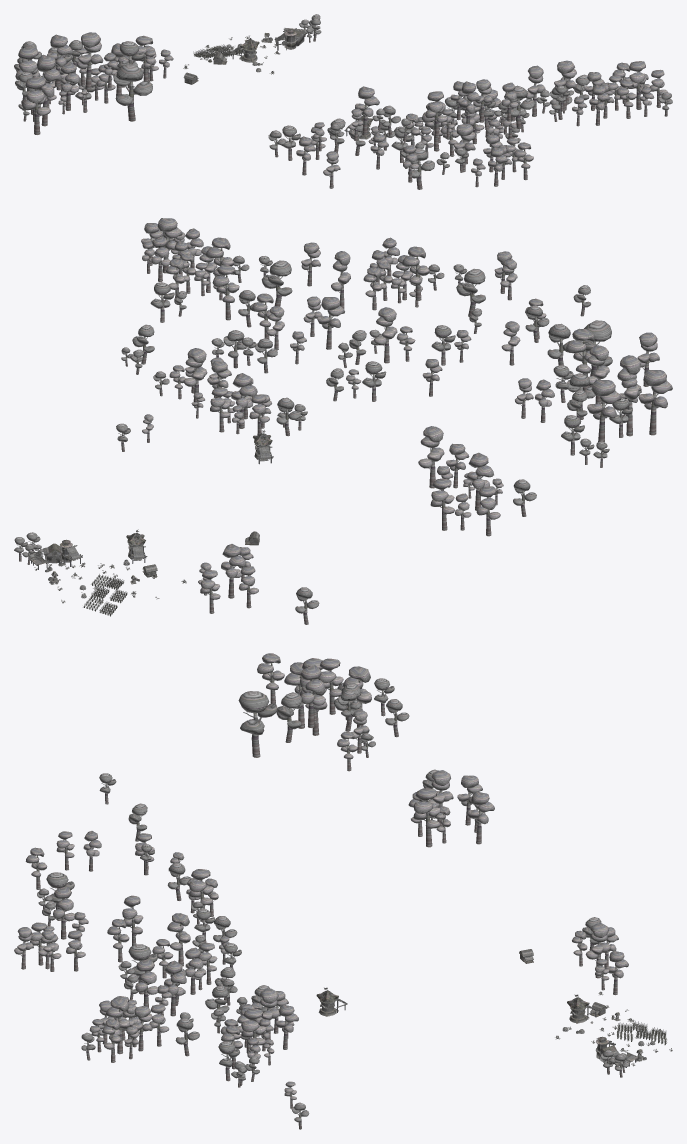
Rendered from asset.001.fbx.
3 views of the same model, one above another, from view 1: azimuth 30°, elevation 25°; view 2: azimuth 150°, elevation 25°; view 3: azimuth 270°, elevation 25° (orthographic). The views are drawn at different scales.
Visible parts, largest first — view 1: asset_3_89.002, asset_4_152.002, asset_4_153.001, asset_4_147.002, asset_4_149.002, asset_4_150.001, asset_4_149.003, asset_4_152, asset_4_100, asset_4_98, asset_4_152.003, asset_3_89 (+27 smaller); view 2: asset_4_152.002, asset_4_152.003, H1.001, asset_4_7.001, asset_4_147.002, asset_4_153.001, asset_3_89, asset_4_168.001, asset_4_100, asset_3_89.003, asset_4_152, asset_4_98.001 (+8 smaller); view 3: asset_3_89.002, asset_4_153.001, asset_4_7.001, asset_4_149.003.
Part boxes in pixels (left/top/right/bottom): asset_3_89.002: left=113, top=64, right=152, bottom=121; asset_4_152.002: left=22, top=77, right=50, bottom=134; asset_4_153.001: left=77, top=32, right=103, bottom=90; asset_4_147.002: left=37, top=54, right=61, bottom=126; asset_4_149.002: left=355, top=86, right=379, bottom=135; asset_4_150.001: left=60, top=62, right=80, bottom=110; asset_4_149.003: left=47, top=34, right=73, bottom=86; asset_4_152: left=425, top=91, right=447, bottom=138; asset_4_100: left=526, top=65, right=545, bottom=116; asset_4_98: left=554, top=60, right=576, bottom=110; asset_4_152.003: left=15, top=47, right=38, bottom=99; asset_3_89: left=505, top=85, right=534, bottom=128; asset_4_152.002: left=638, top=369, right=672, bottom=435; asset_4_152.003: left=587, top=379, right=621, bottom=442; H1.001: left=29, top=539, right=82, bottom=569; asset_4_7.001: left=418, top=426, right=444, bottom=488; asset_4_147.002: left=617, top=355, right=641, bottom=436; asset_4_153.001: left=566, top=328, right=594, bottom=390; asset_3_89: left=261, top=260, right=292, bottom=306; asset_4_168.001: left=467, top=452, right=493, bottom=510; asset_4_100: left=212, top=264, right=239, bottom=320; asset_3_89.003: left=456, top=268, right=485, bottom=316; asset_4_152: left=317, top=297, right=344, bottom=349; asset_4_98.001: left=402, top=246, right=429, bottom=300; asset_3_89.002: left=238, top=691, right=277, bottom=757; asset_4_153.001: left=300, top=665, right=325, bottom=727; asset_4_7.001: left=413, top=788, right=440, bottom=847; asset_4_149.003: left=318, top=658, right=343, bottom=714.
Bounding box in the file's own units: 1679 × 618 × 1562.
